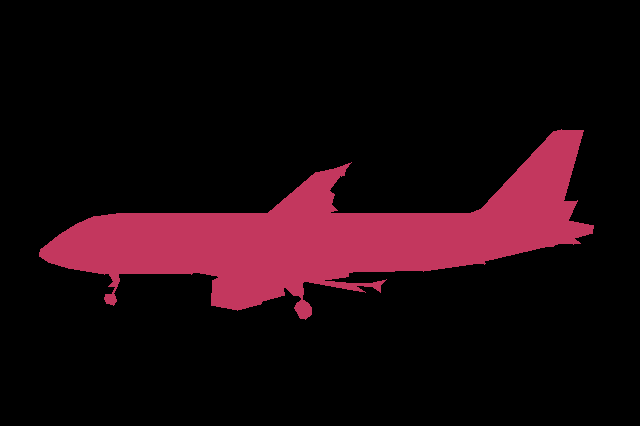Airplane: (39, 129, 594, 319)
